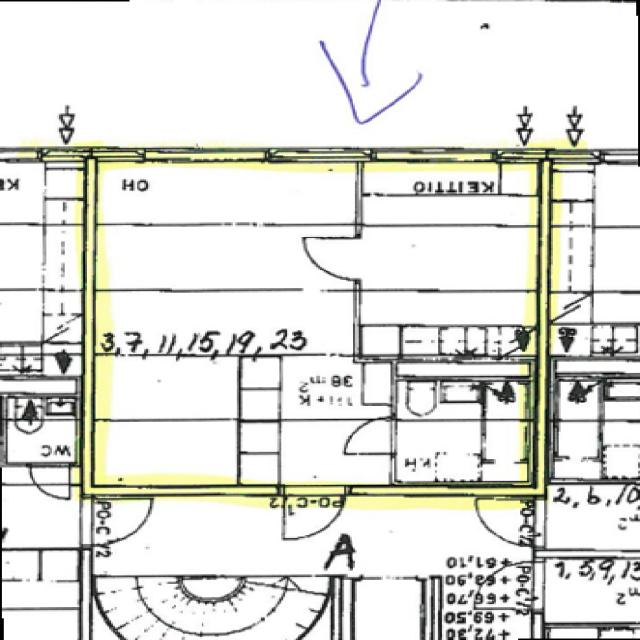door: (283, 484, 343, 543), (303, 238, 363, 279), (343, 418, 398, 453)
